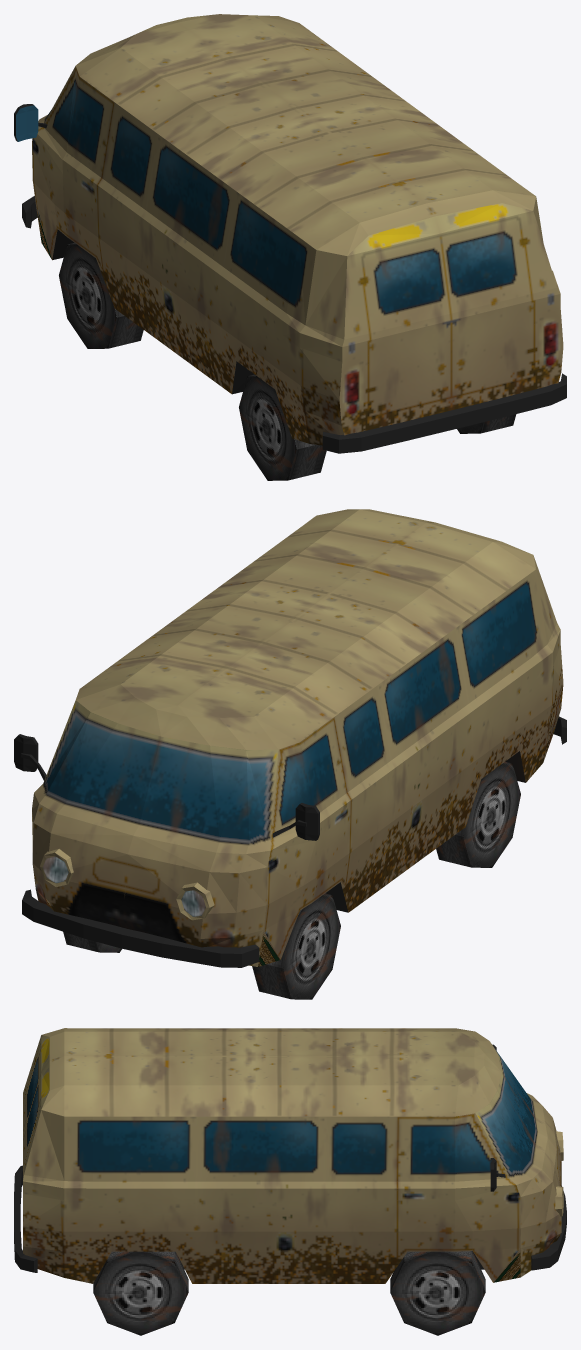
Rendered from real_uaz452.glb.
The picture shows the model from 3 angles, top to bottom: view 1: azimuth 30°, elevation 25°; view 2: azimuth 150°, elevation 25°; view 3: azimuth 270°, elevation 25°; orthographic projection. The views are drawn at different scales.
Parts seen in each view (by area): view 1: hull; view 2: hull; view 3: hull.
Boxes of the visible parts, left/top/right/bottom form: hull: left=14, top=14, right=566, bottom=480; hull: left=14, top=509, right=566, bottom=999; hull: left=14, top=1028, right=566, bottom=1335.
Bounding box in the file's own units: 1.36 × 1.22 × 2.6.
1 material, 1 textured.
